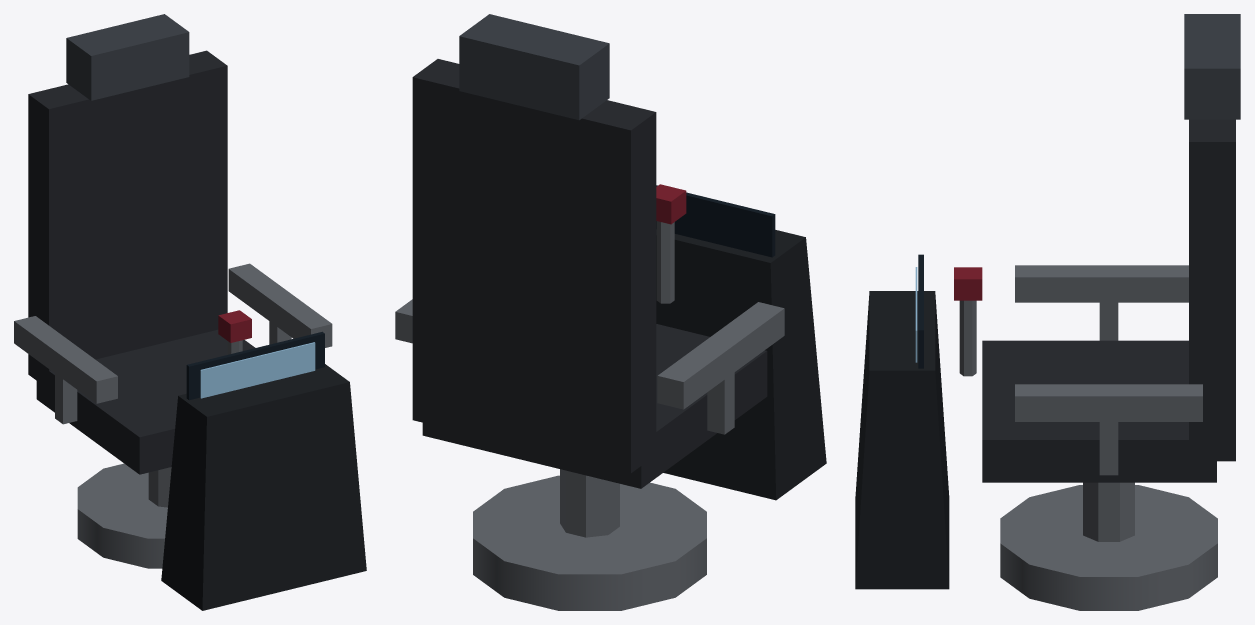
The model's file is imperial_seat.glb.
3 renders of one model, left to right at view 1: azimuth 30°, elevation 25°; view 2: azimuth 150°, elevation 25°; view 3: azimuth 270°, elevation 25°, orthographic. The views are drawn at different scales.
Visible parts, largest first — view 1: imperial_seat; view 2: imperial_seat; view 3: imperial_seat.
Boxes of the visible parts, x1,y1,x2,y2 form: imperial_seat: (14, 14, 366, 610); imperial_seat: (395, 14, 826, 610); imperial_seat: (855, 14, 1240, 610).
Bounding box in the file's own units: 0.66 × 1.23 × 0.82.
